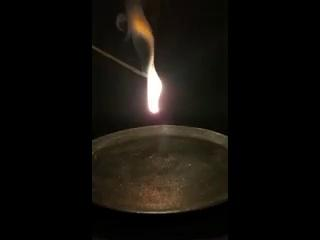Fire: (132, 16, 162, 113)
